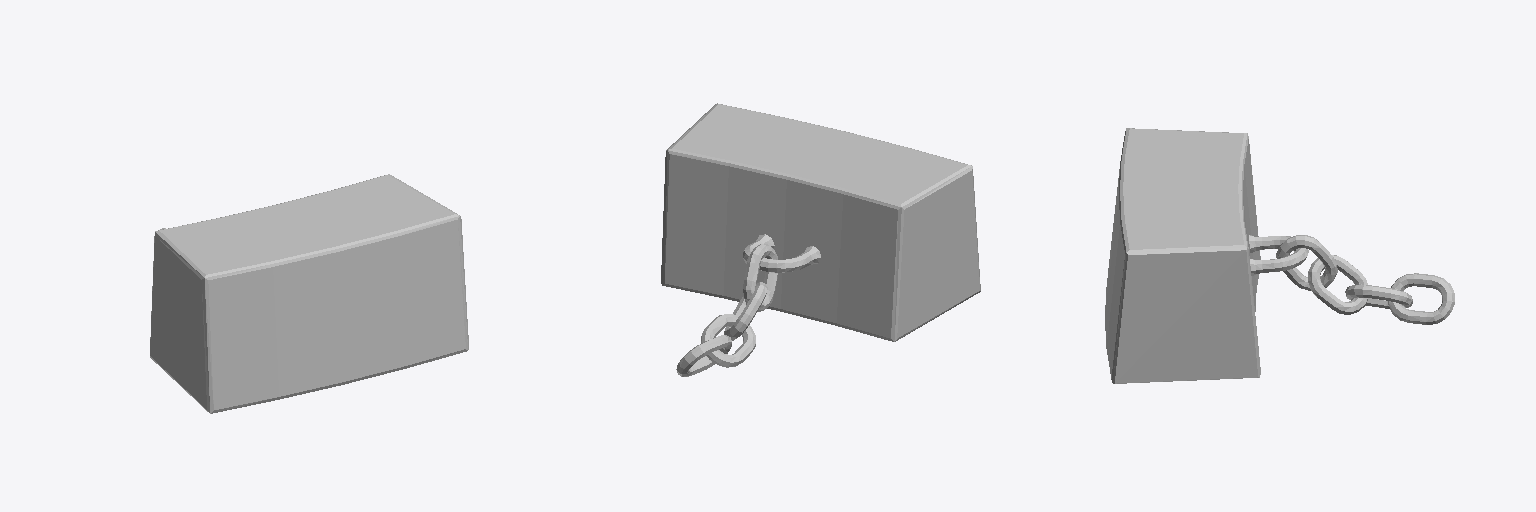
The model's file is beast_chains0.obj.
3 views of the same model, side by side, from view 1: azimuth 30°, elevation 25°; view 2: azimuth 150°, elevation 25°; view 3: azimuth 270°, elevation 25° (orthographic).
Parts seen in each view (by area): view 1: segment1_Cube.002; view 2: segment1_Cube.002; view 3: segment1_Cube.002.
Part boxes in pixels (bbox=[...]): segment1_Cube.002: bbox=[150, 174, 468, 413]; segment1_Cube.002: bbox=[661, 103, 980, 376]; segment1_Cube.002: bbox=[1105, 128, 1454, 383].
Bounding box in the file's own units: 0.8213 × 0.4 × 0.954.